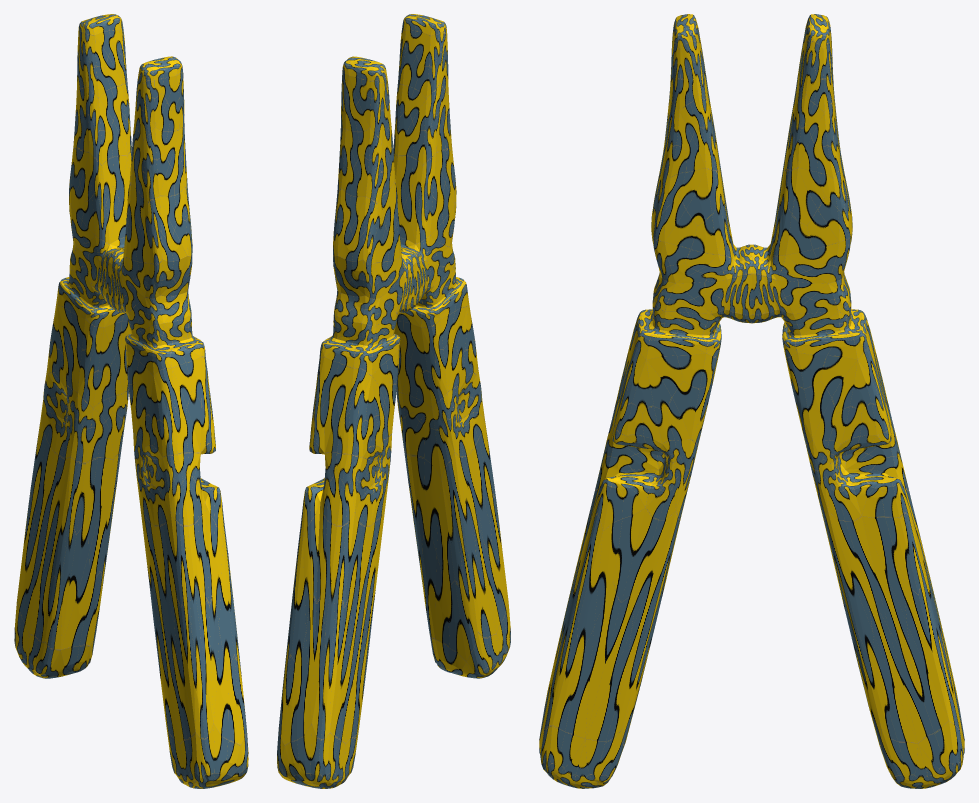
File: Multitool.fbx
3 views of the same model, side by side, from view 1: azimuth 30°, elevation 25°; view 2: azimuth 150°, elevation 25°; view 3: azimuth 270°, elevation 25° (orthographic). The views are drawn at different scales.
Parts seen in each view (by area): view 1: Multitool; view 2: Multitool; view 3: Multitool.
Boxes of the visible parts, x1,y1,x2,y2 form: Multitool: [14, 14, 248, 788]; Multitool: [277, 14, 510, 788]; Multitool: [539, 14, 964, 788].
Bounding box in the file's own units: 7.98 × 99.87 × 50.75.
1 material, 1 textured.
